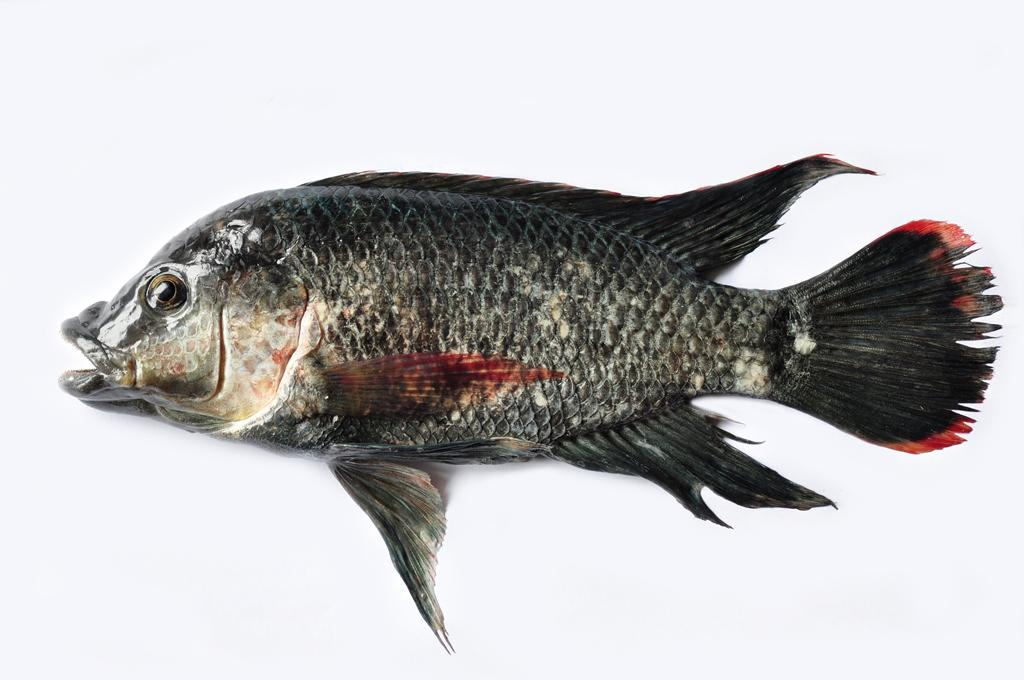Tilapia: (49, 155, 1007, 660)
